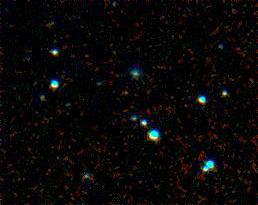star: (113, 77, 143, 107)
